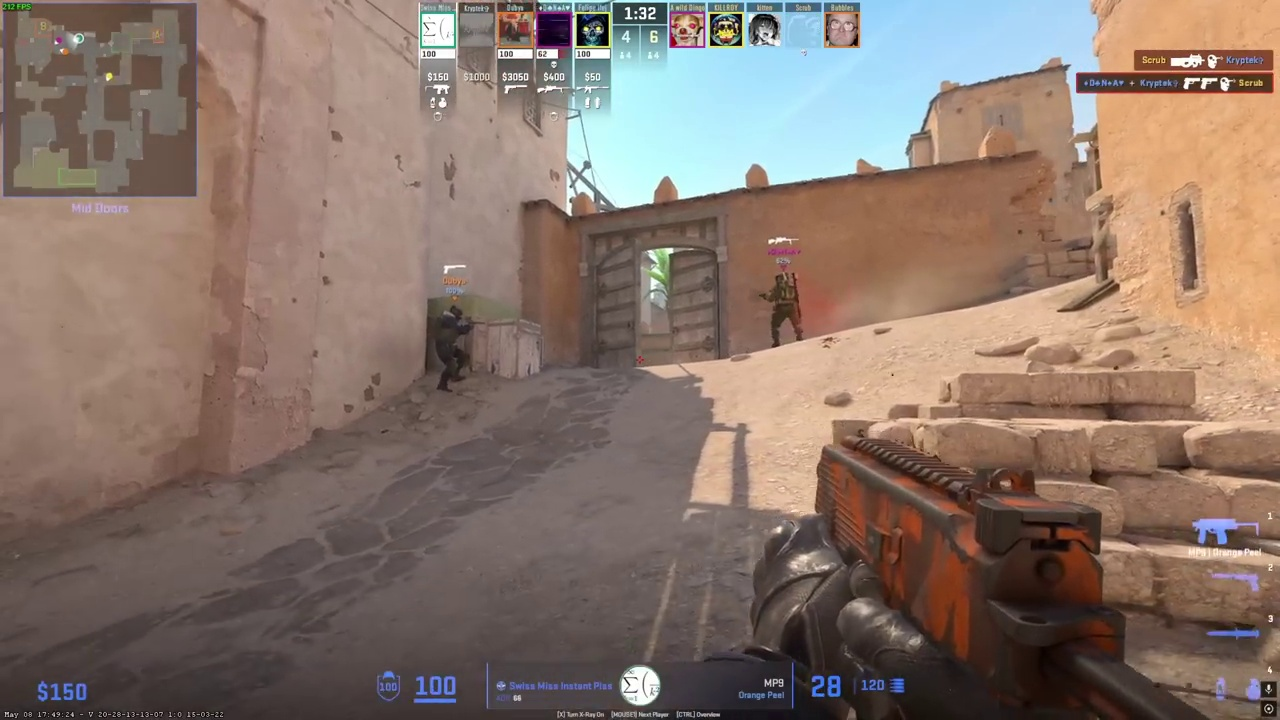CT: (434, 305, 473, 391), (766, 272, 803, 347)
